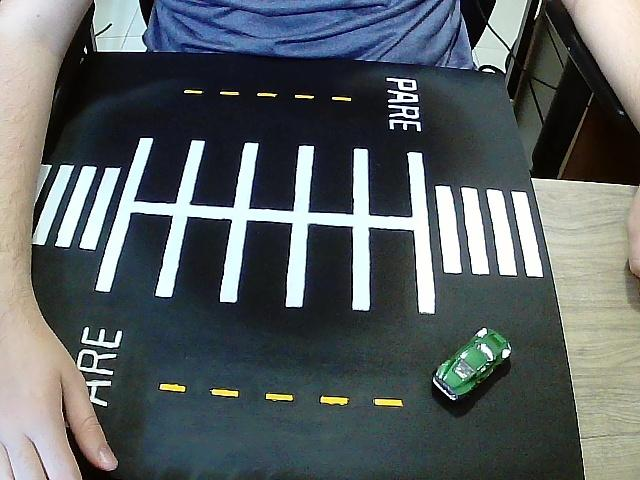Carro: (432, 328, 511, 403)
